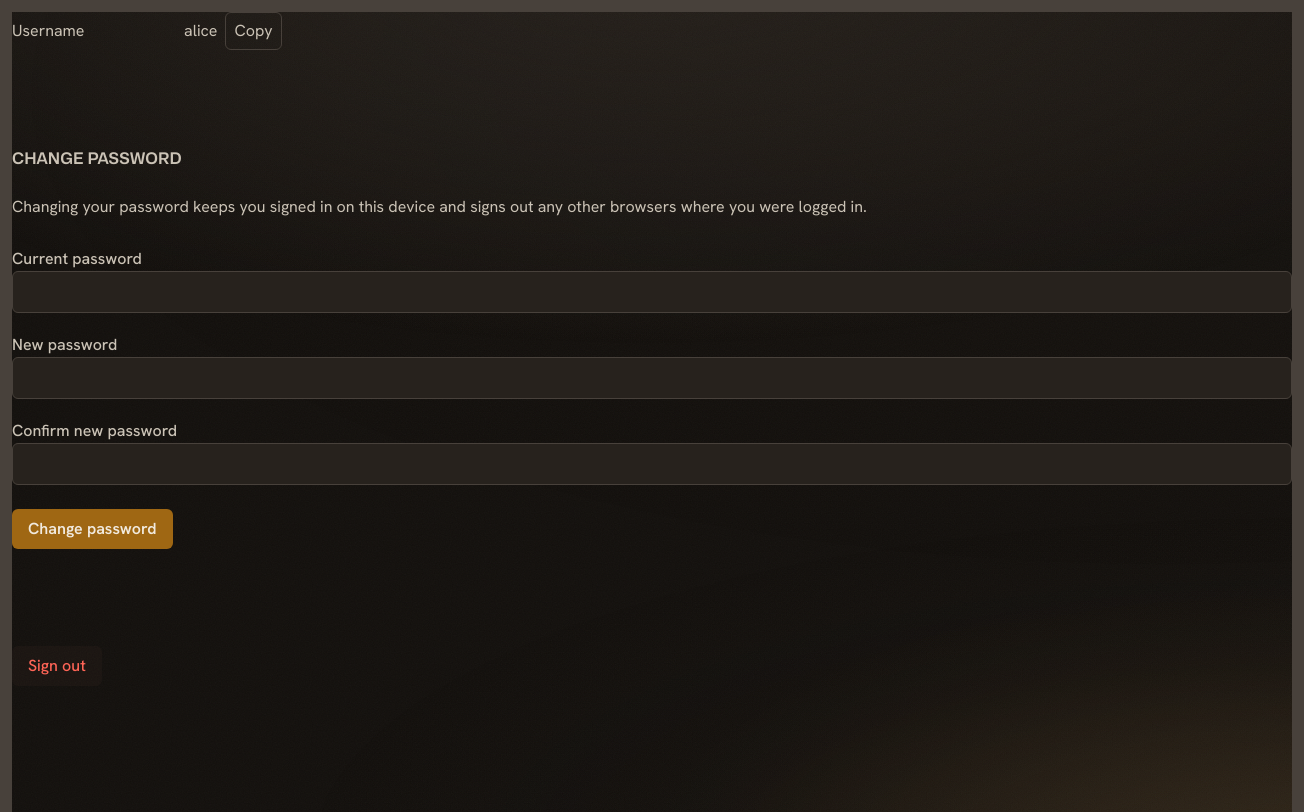
Test: AccountSection › rejects empty fields without hitting the API
Click the button with test id "account-change-password-submit": (92,529) [12,509,173,549]
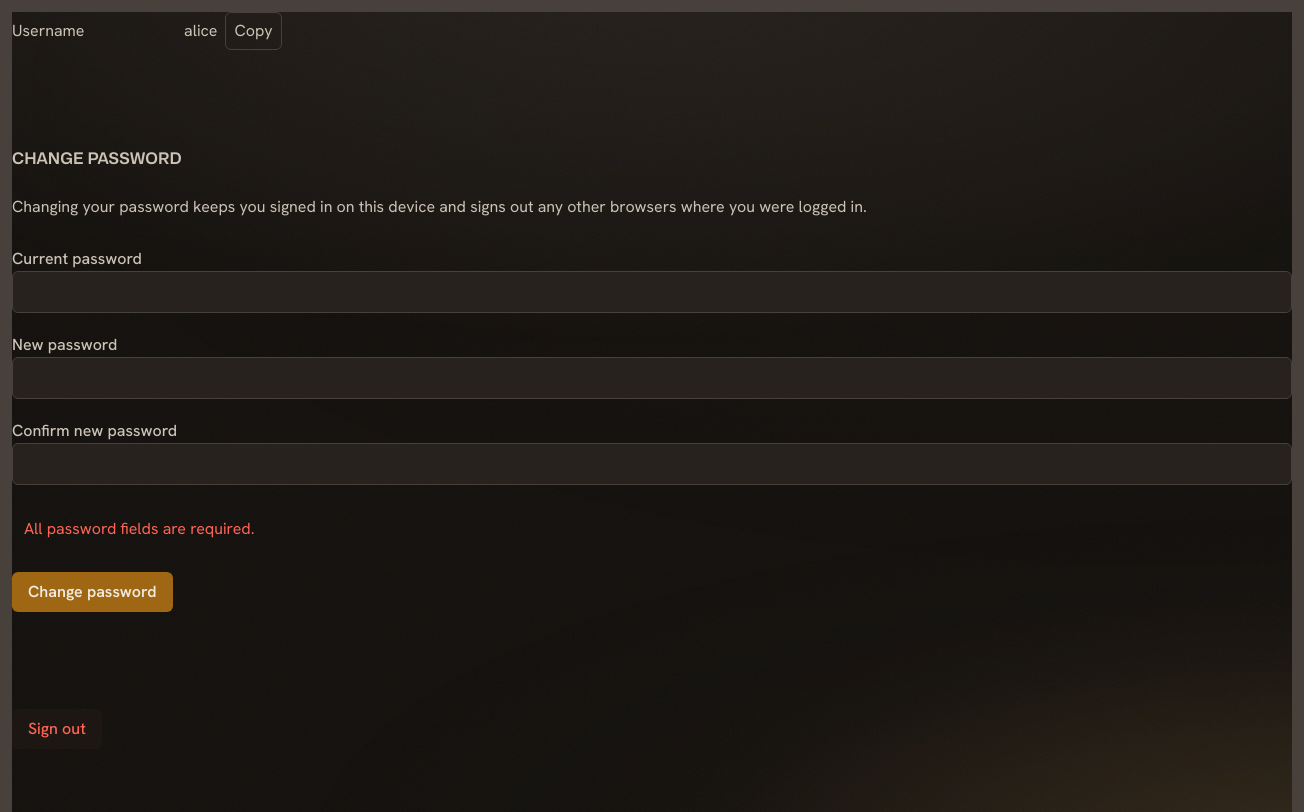
Check: the message with test id "account-pw-error" reads "All password fields are required.", box [24,518,255,539]
